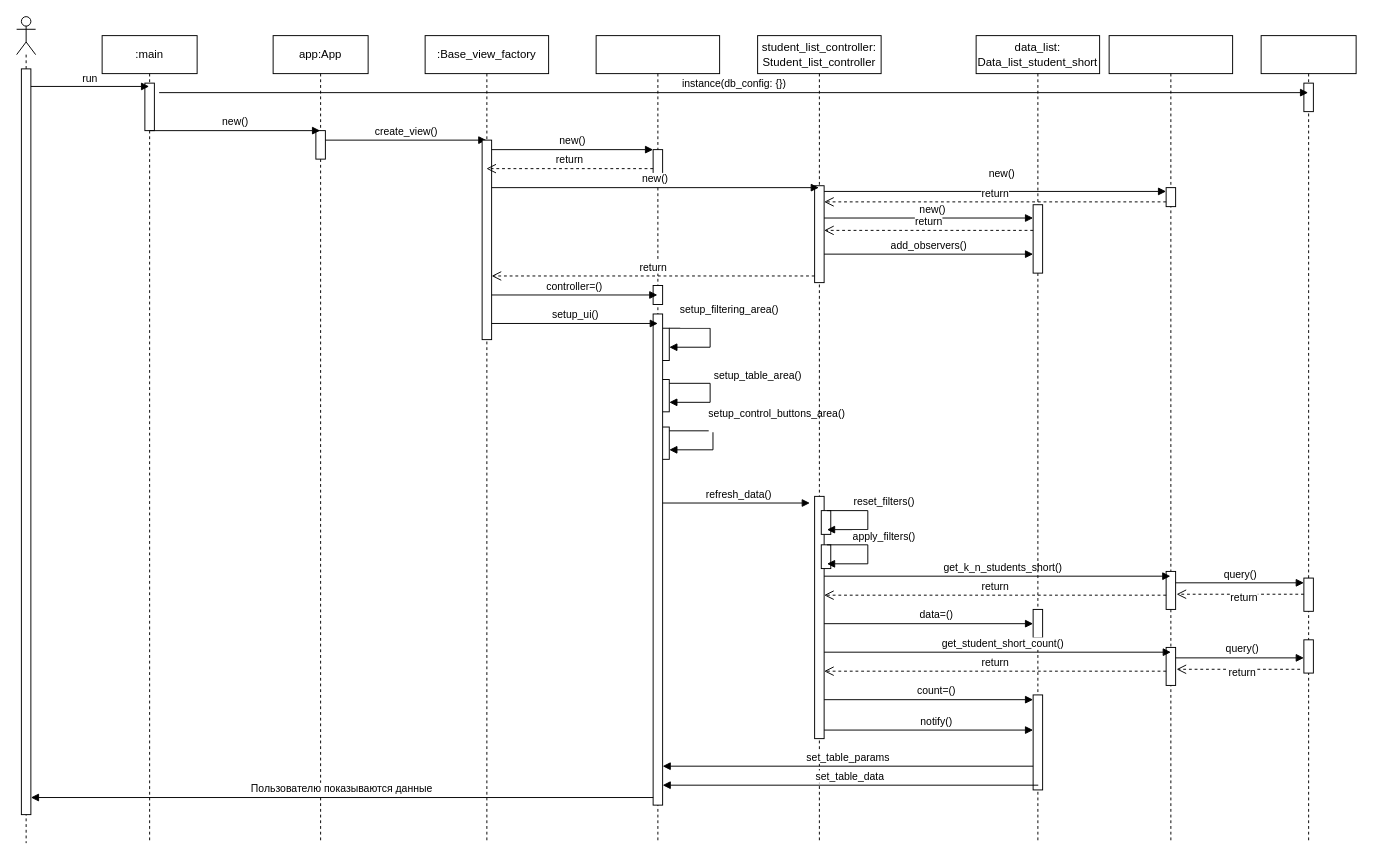
The diagram is 1373 pixels wide and 860 high, and some of its shapes have lost their labels. The shapes that lost their labels are listed below. From the top down, each one's box as (x1, y1, x2, y2) in pixels, then its label:
(595, 35, 720, 843): student_list_view: Student_list_view
(1108, 35, 1233, 843): students_list: Students_list
(1260, 35, 1356, 843): :DB_client
